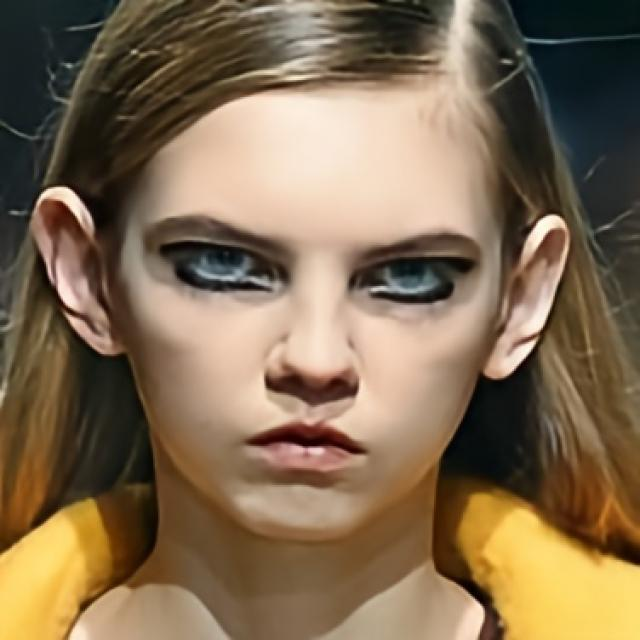anger: (128, 95, 498, 538)
